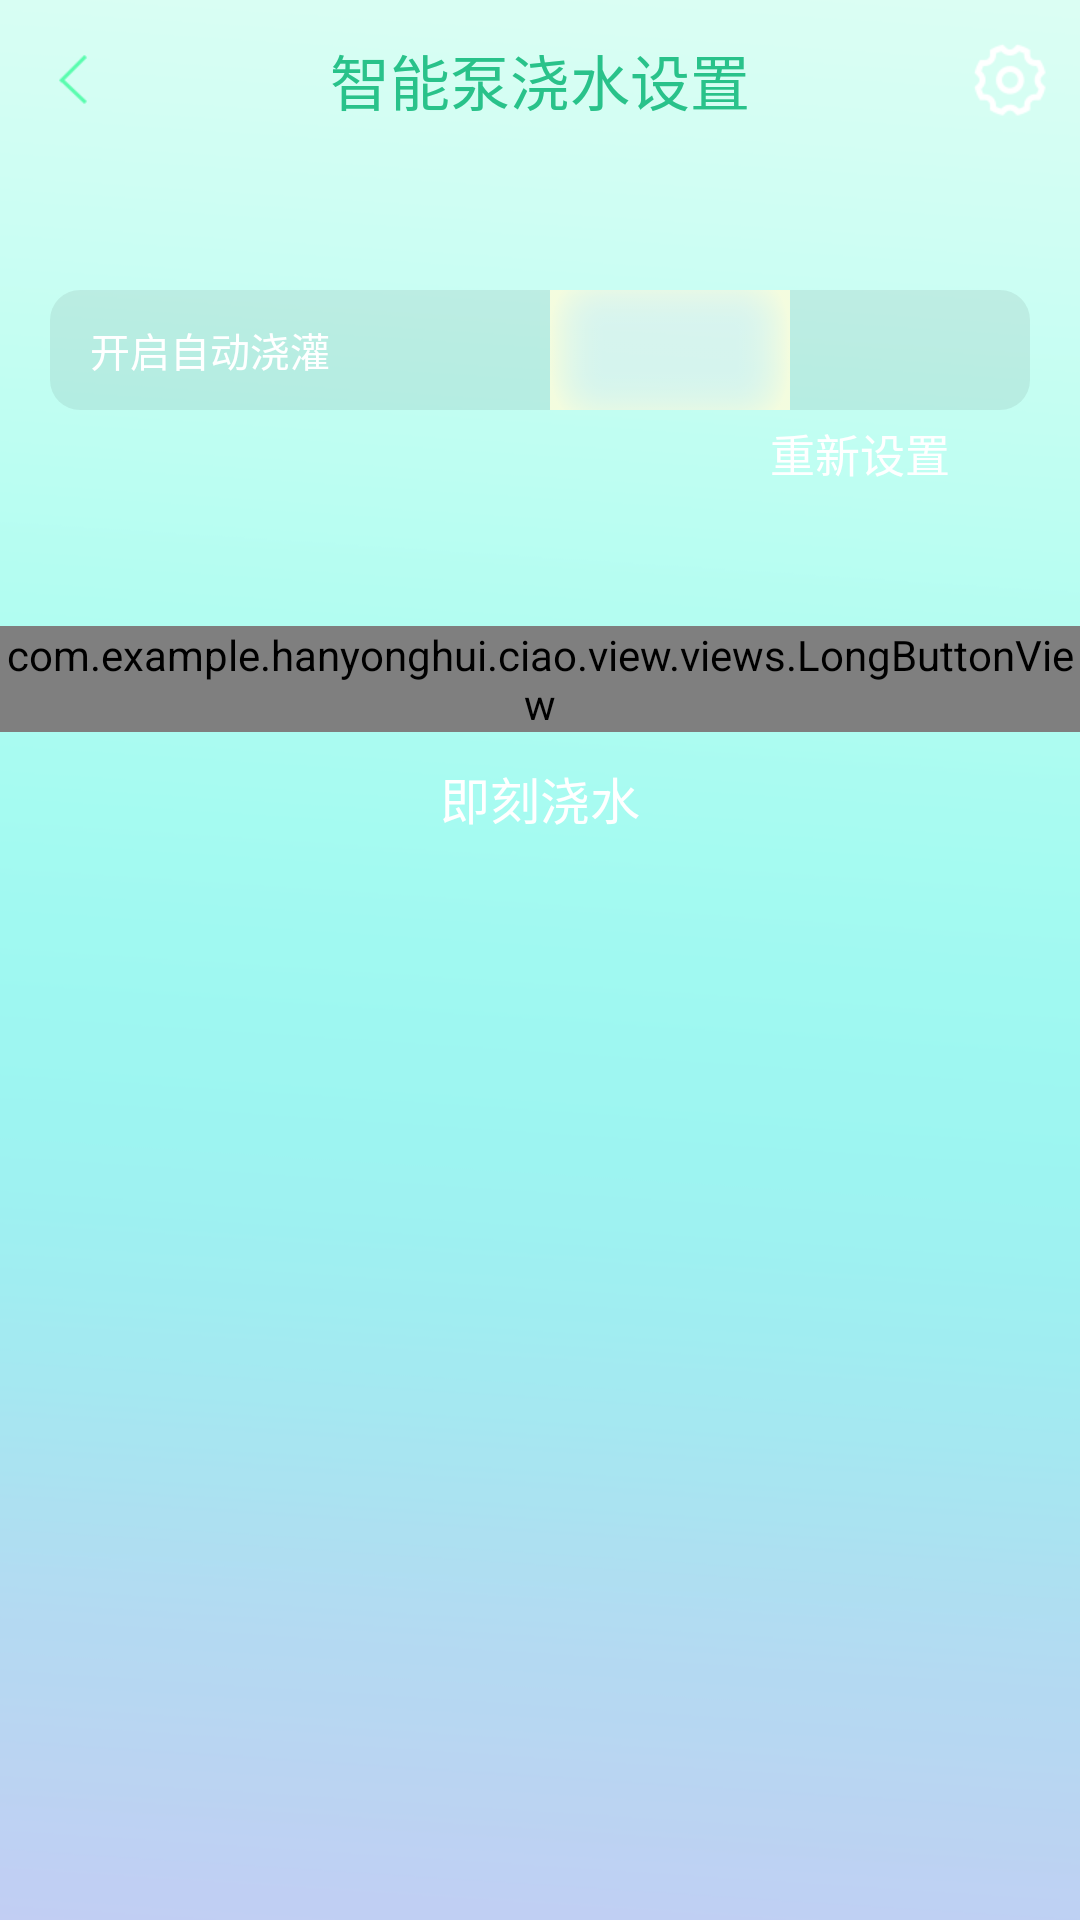

Where icons sit on this 1080px×1920px app screen, as (x1, y1, x2, y2):
stting: (975, 45, 1045, 115)
